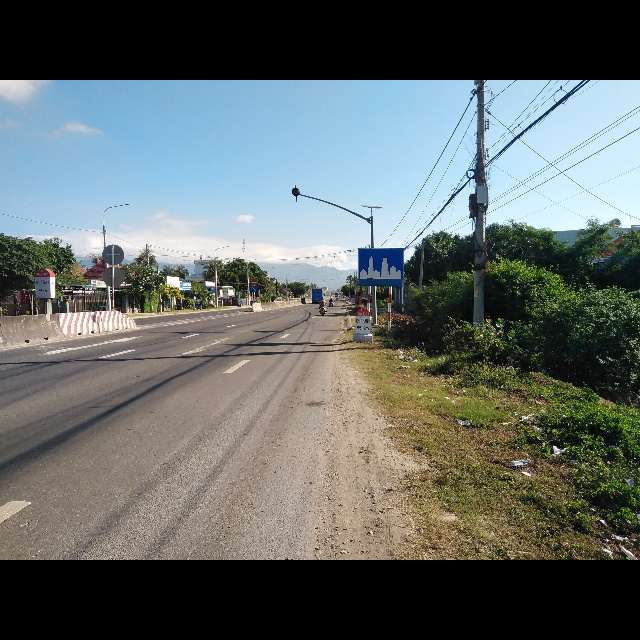Khu đông dân cư: (357, 247, 404, 286)
